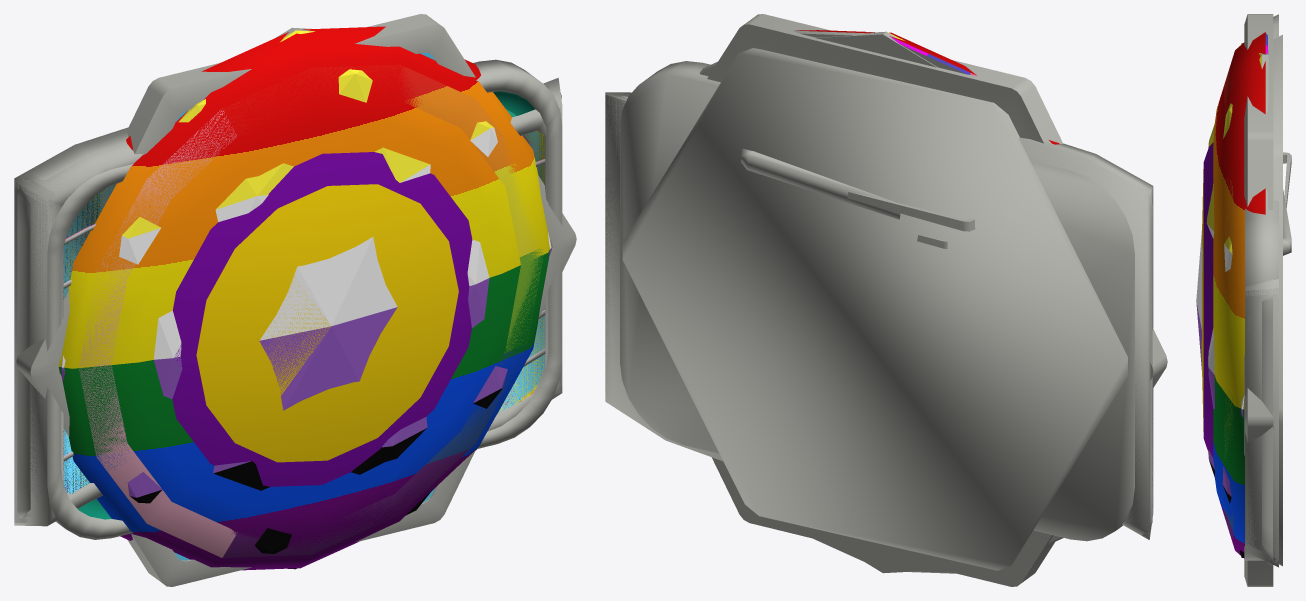
File: pins.glb
The picture shows the model from 3 angles, left to right: view 1: azimuth 30°, elevation 25°; view 2: azimuth 150°, elevation 25°; view 3: azimuth 270°, elevation 25°; orthographic projection. The views are drawn at different scales.
Parts seen in each view (by area): view 1: r_rain, pin_inter_round, pin_enby_shiny, r_prog, pin_trans_hex, pin_mlm_rect, pin_trans_flag, pin_inter_flag, pin_mlm_flag, pin_ace_flag, pin_inter_shiny, pin_fem_flag; view 2: pin_les_hex, pin_mlm_rect, pin_trans_hex, pin_trans_flag, pin_ace_flag, pin_fem_flag, pin_inter_flag, r_rain, pin_enby_shiny, pin_mlm_flag; view 3: r_rain, pin_trans_hex, pin_trans_flag, pin_les_hex, pin_inter_round, pin_mlm_rect, pin_mlm_flag, pin_enby_shiny, pin_inter_flag, pin_ace_flag, r_prog.
Part boxes in pixels (box(x1,y1,x2,y2)): r_rain: box(58, 26, 549, 570); pin_inter_round: box(172, 152, 472, 486); pin_enby_shiny: box(61, 27, 551, 569); r_prog: box(79, 64, 543, 557); pin_trans_hex: box(16, 14, 576, 586); pin_mlm_rect: box(47, 59, 562, 539); pin_trans_flag: box(14, 81, 562, 516); pin_inter_flag: box(14, 77, 562, 526); pin_mlm_flag: box(17, 85, 561, 518); pin_ace_flag: box(14, 83, 562, 522); pin_inter_shiny: box(174, 203, 330, 395); pin_fem_flag: box(19, 115, 557, 501); pin_les_hex: box(622, 48, 1128, 570); pin_mlm_rect: box(620, 61, 1134, 541); pin_trans_hex: box(707, 14, 1167, 586); pin_trans_flag: box(605, 96, 1153, 535); pin_ace_flag: box(605, 94, 1153, 537); pin_fem_flag: box(605, 95, 1149, 536); pin_inter_flag: box(605, 92, 1153, 539); r_rain: box(700, 30, 1063, 573); pin_enby_shiny: box(816, 31, 940, 573); pin_mlm_flag: box(621, 96, 1152, 528); r_rain: box(1213, 32, 1291, 558); pin_trans_hex: box(1244, 14, 1291, 586); pin_trans_flag: box(1245, 17, 1278, 559); pin_les_hex: box(1273, 34, 1282, 566); pin_inter_round: box(1201, 142, 1213, 457); pin_mlm_rect: box(1245, 200, 1278, 560); pin_mlm_flag: box(1262, 279, 1272, 565); pin_enby_shiny: box(1196, 43, 1268, 557); pin_inter_flag: box(1245, 14, 1278, 567); pin_ace_flag: box(1245, 15, 1278, 564); r_prog: box(1224, 65, 1233, 538).
Size of the model in its own units: 2.12 by 2 by 0.3518.
7 materials, 3 textured.
